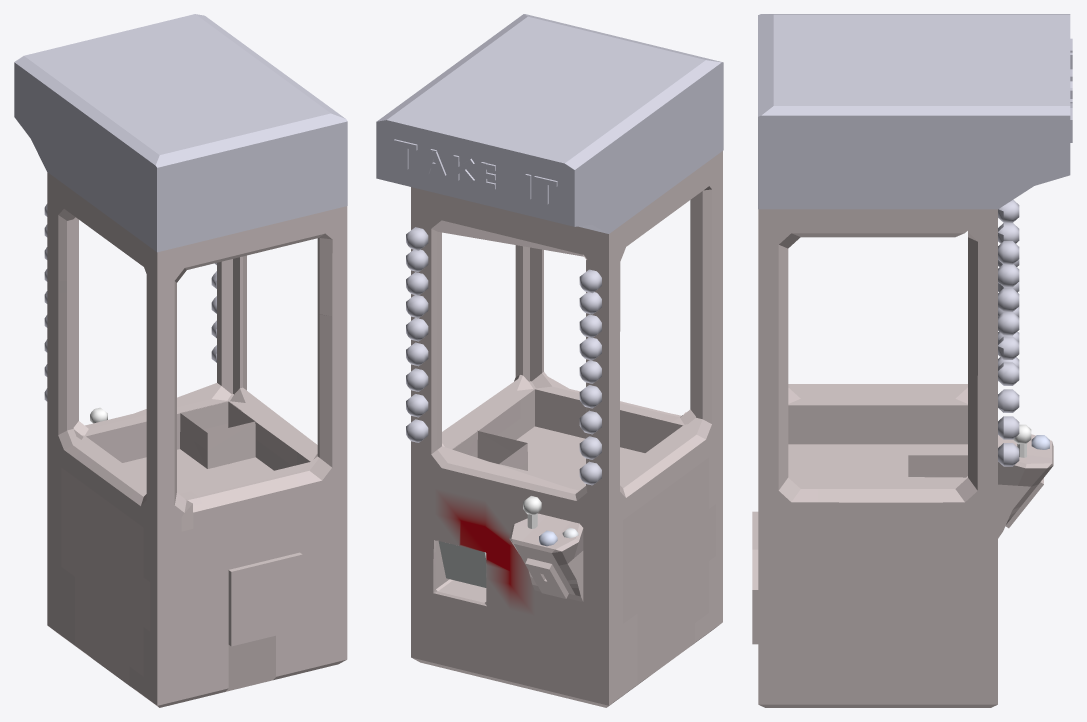
Rendered from автомат3.fbx.
3 views of the same model, side by side, from view 1: azimuth 30°, elevation 25°; view 2: azimuth 150°, elevation 25°; view 3: azimuth 270°, elevation 25° (orthographic). The views are drawn at different scales.
Visible parts, largest first — view 1: Куб.001; view 2: Куб.001; view 3: Куб.001.
Part boxes in pixels (x1=…): Куб.001: x1=14, y1=14, x2=347, y2=707; Куб.001: x1=376, y1=14, x2=723, y2=707; Куб.001: x1=752, y1=14, x2=1072, y2=707.
Bounding box in the file's own units: 201 × 552 × 267.
